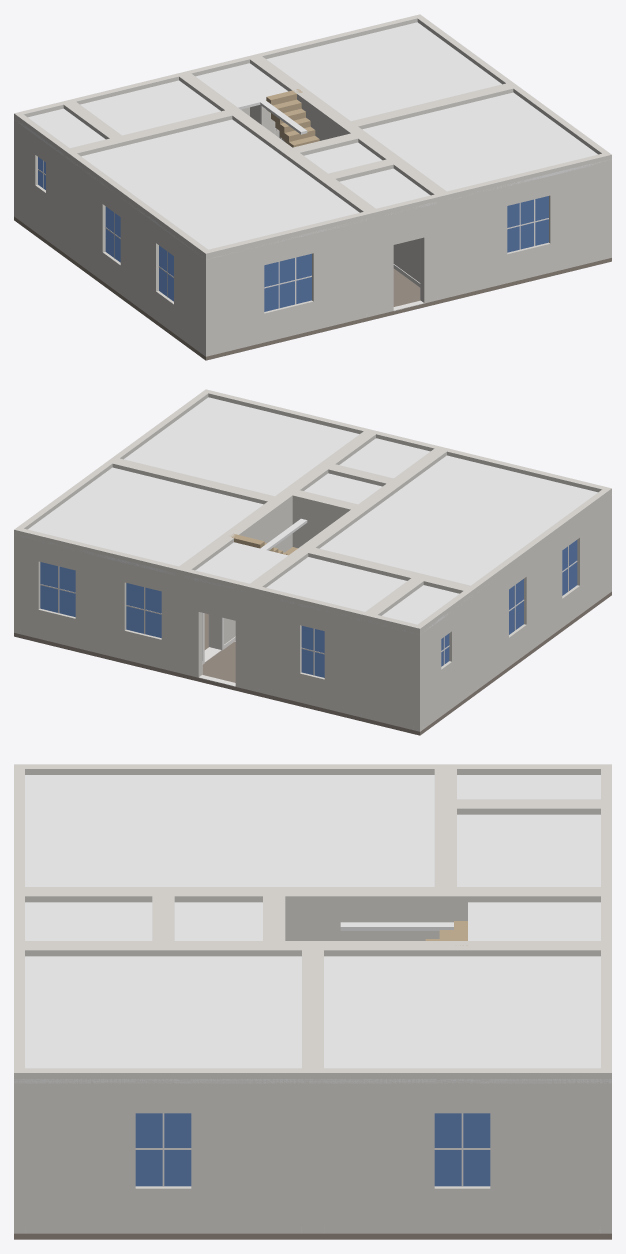
File: interior-ground.glb
3 renders of one model, top to bottom at view 1: azimuth 30°, elevation 25°; view 2: azimuth 150°, elevation 25°; view 3: azimuth 270°, elevation 25°, orthographic. The views are drawn at different scales.
Visible parts, largest first — view 1: interior-ground; view 2: interior-ground; view 3: interior-ground.
Part boxes in pixels (x1,y1,x2,y2): interior-ground: (14,14,611,360); interior-ground: (14,389,611,735); interior-ground: (14,764,611,1239).
Size of the model in its own units: 13.2 by 3.42 by 10.8.
